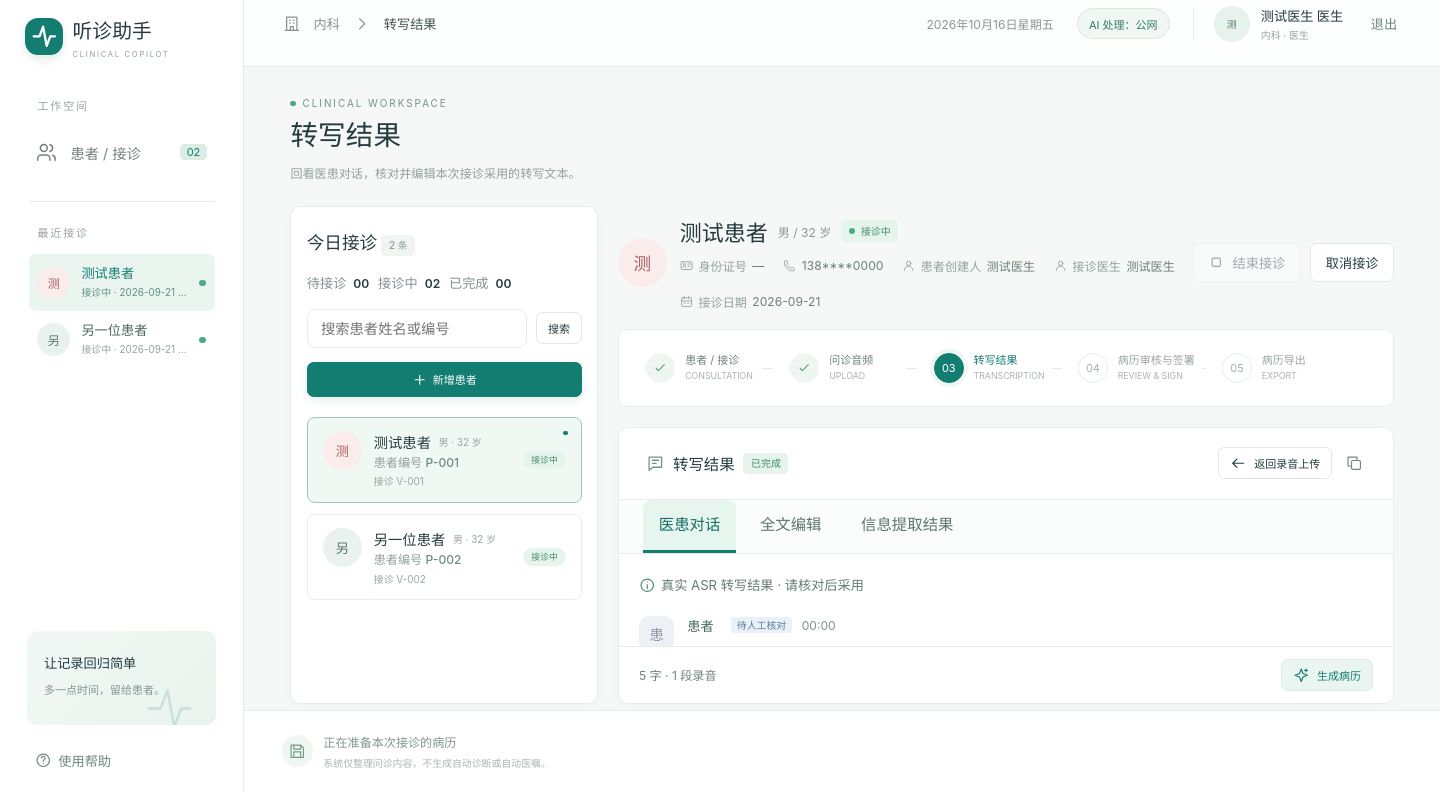
Scenario: ASR raw preview › clears the previous visit preview when switching patients
Click the button with aria-label "返回录音上传". click: (1275, 463)
box: x1=1218 y1=447 x2=1332 y2=479
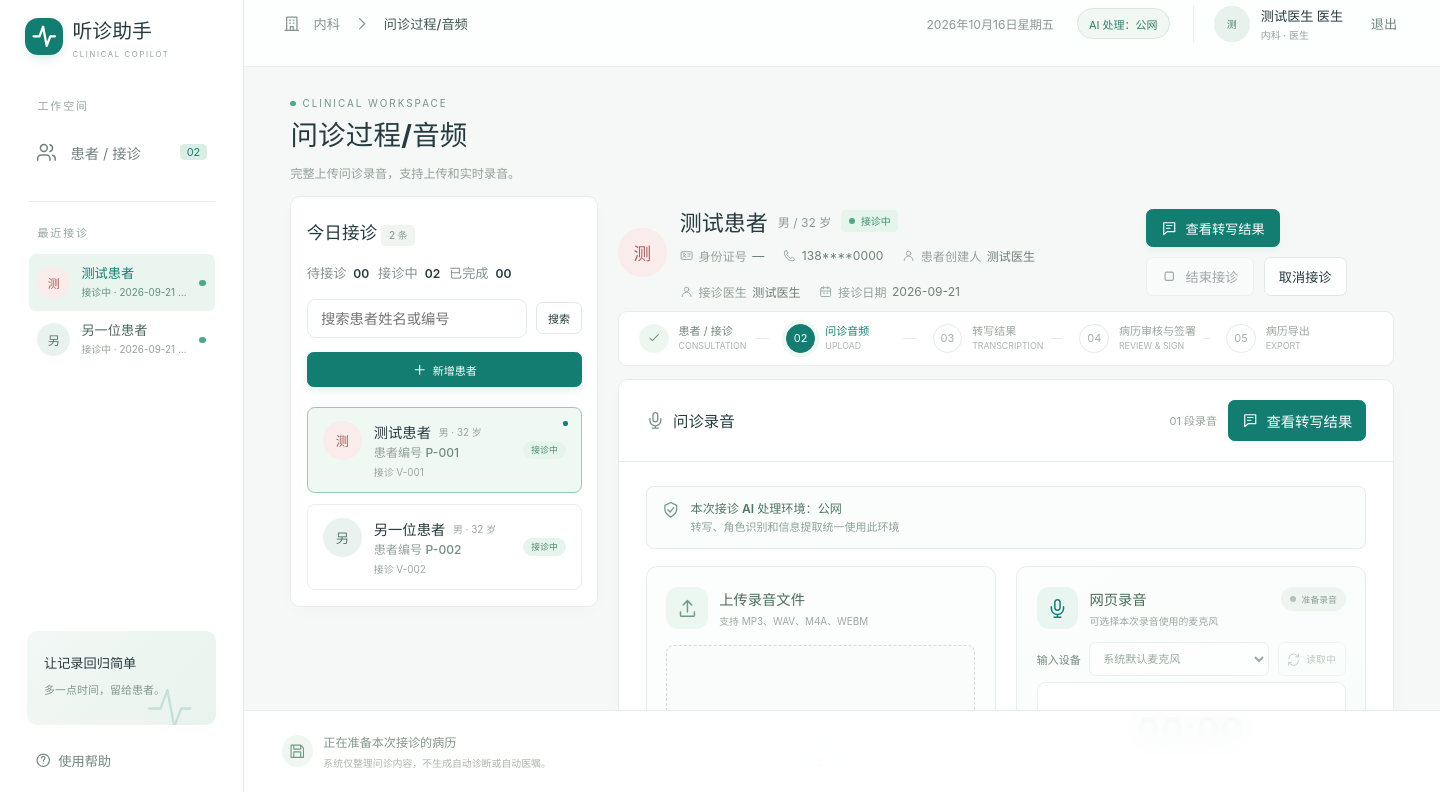
Click the button "另 另一位患者 男 · 32 岁 患者编号 P-002 接诊 V-002 接诊中". click: (444, 547)
box: x1=307 y1=504 x2=582 y2=590
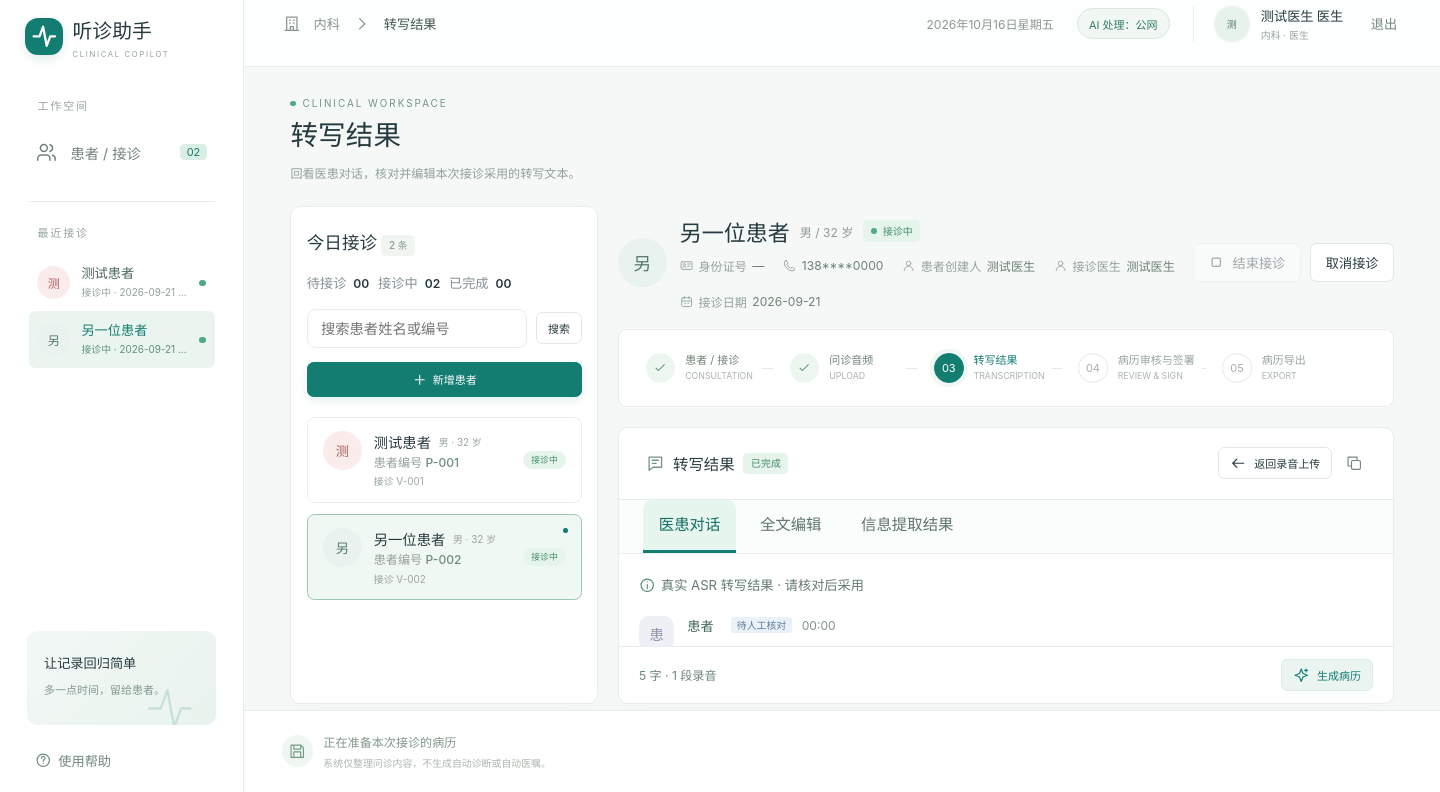
Click the button with class "step" showing "问诊音频 UPLOAD". click: (862, 368)
box: x1=790 y1=352 x2=934 y2=384
(page scrolled)
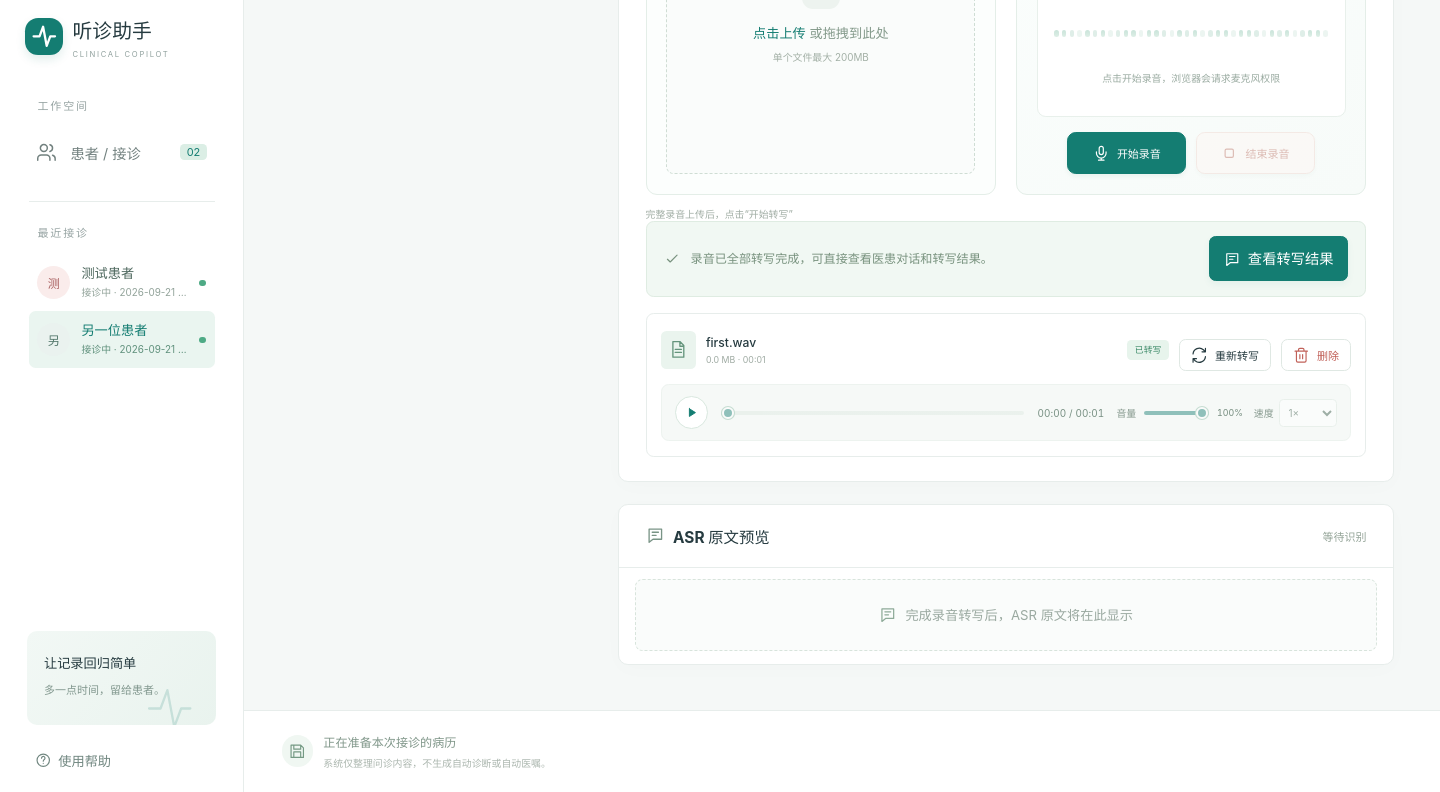
Now the element with class "asr-preview-empty" is shown, box x1=635 y1=578 x2=1377 y2=651
